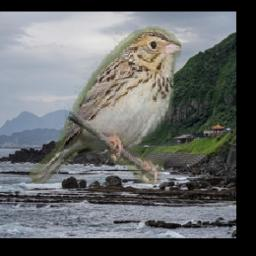Sparrow: (30, 27, 181, 184)
